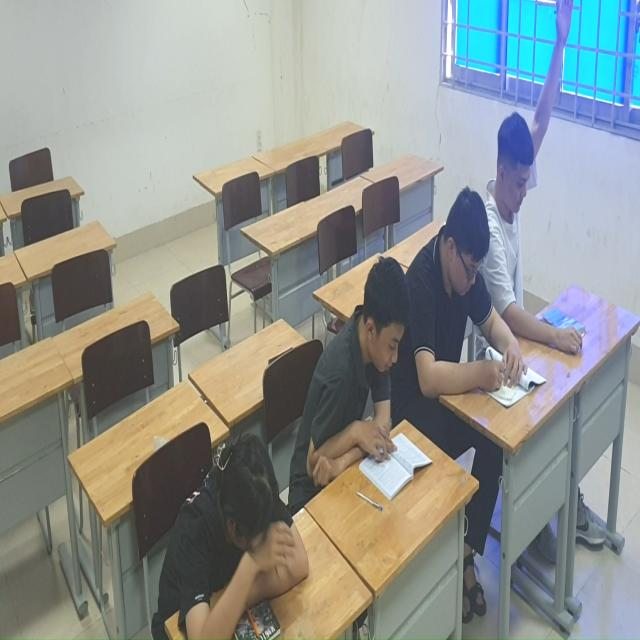raise_hand: (485, 1, 592, 360)
read: (309, 246, 439, 509), (417, 184, 529, 431)
sleep: (161, 420, 318, 640)
